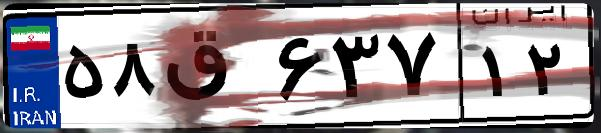1: (475, 38, 525, 113)
2: (525, 38, 570, 115)
3: (330, 28, 385, 110)
5: (57, 26, 110, 100)
6: (270, 28, 330, 110)
7: (385, 28, 445, 110)
8: (110, 28, 158, 98)
ق: (158, 20, 270, 120)
